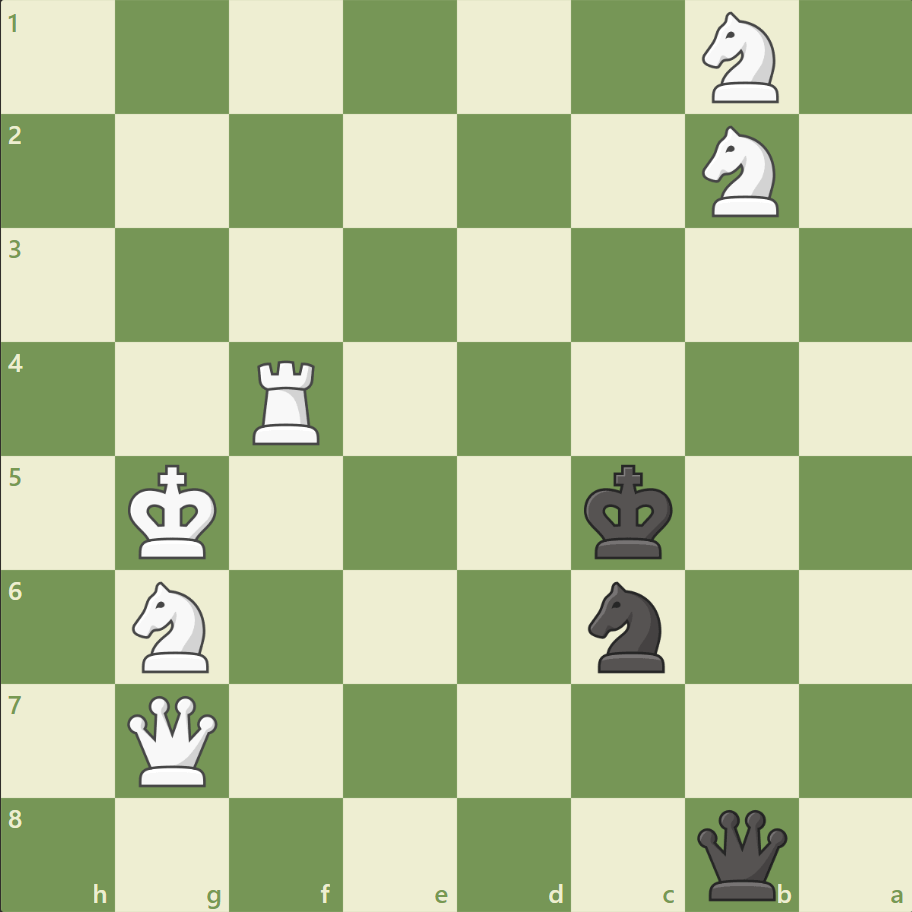K: (124, 458, 224, 566)
N: (124, 575, 222, 677), (692, 7, 789, 110), (692, 121, 789, 223)
Q: (124, 690, 223, 789)
R: (246, 352, 329, 449)
k: (579, 458, 679, 566)
n: (579, 575, 676, 677)
q: (691, 804, 790, 903)
